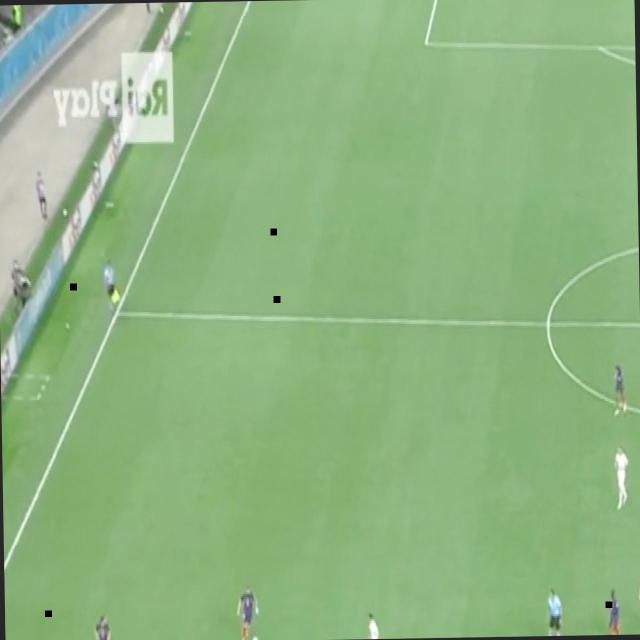ball: (251, 631, 260, 640)
player-white: (236, 578, 261, 640), (612, 441, 632, 513), (609, 360, 630, 420), (102, 258, 120, 320), (545, 581, 565, 636), (606, 583, 624, 635), (361, 609, 385, 639), (92, 608, 114, 640), (637, 571, 640, 634)
